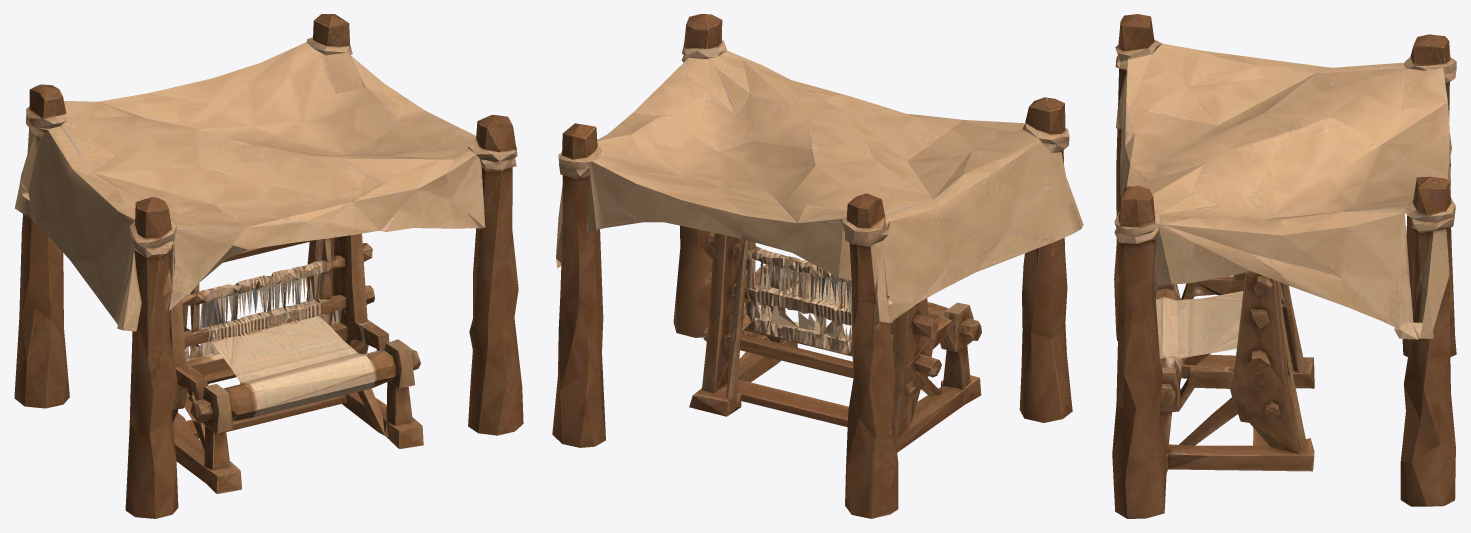
File: midian-weaving-shade.glb
The picture shows the model from 3 angles, left to right: view 1: azimuth 30°, elevation 25°; view 2: azimuth 150°, elevation 25°; view 3: azimuth 270°, elevation 25°; orthographic projection. The views are drawn at different scales.
Bounding box in the file's own units: 1.9 × 1.41 × 1.37.
Materials: 1 (1 with a texture image).
